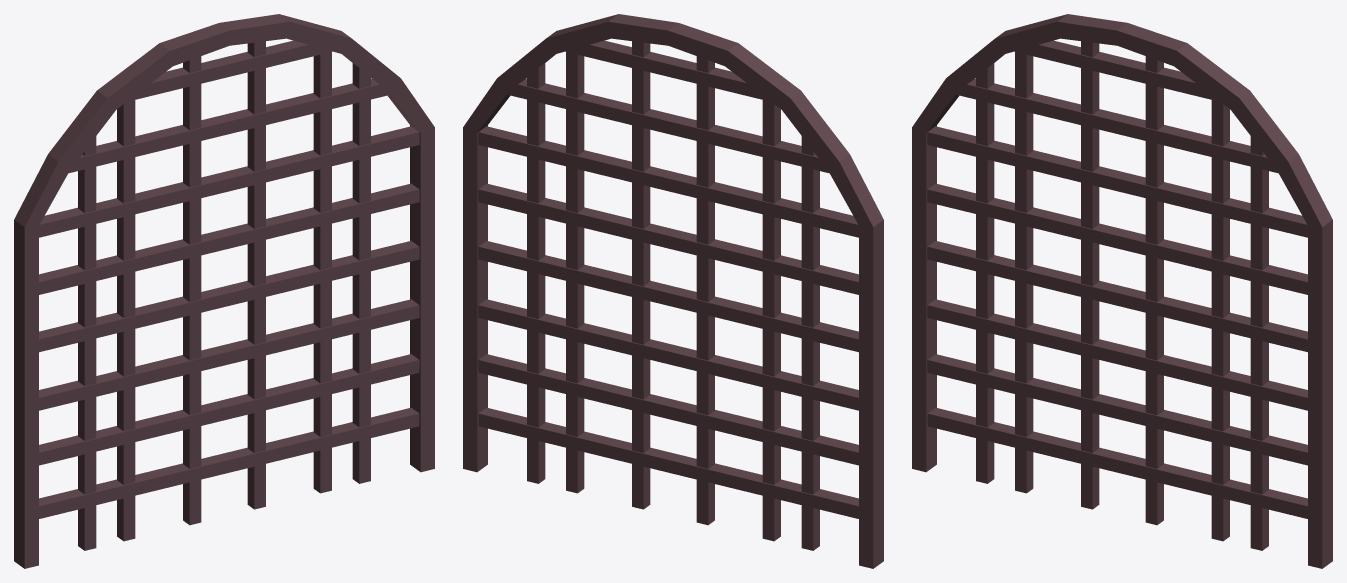
Rendered from IronGrate-Big.fbx.
The picture shows the model from 3 angles, left to right: view 1: azimuth 30°, elevation 25°; view 2: azimuth 150°, elevation 25°; view 3: azimuth 330°, elevation 25°; orthographic projection.
Parts seen in each view (by area): view 1: IronGrate-Big; view 2: IronGrate-Big; view 3: IronGrate-Big.
Part boxes in pixels (x1,y1,x2,y2): IronGrate-Big: [14, 14, 434, 568]; IronGrate-Big: [463, 14, 883, 568]; IronGrate-Big: [912, 14, 1332, 568].
Bounding box in the file's own units: 442 × 502 × 19.72.
